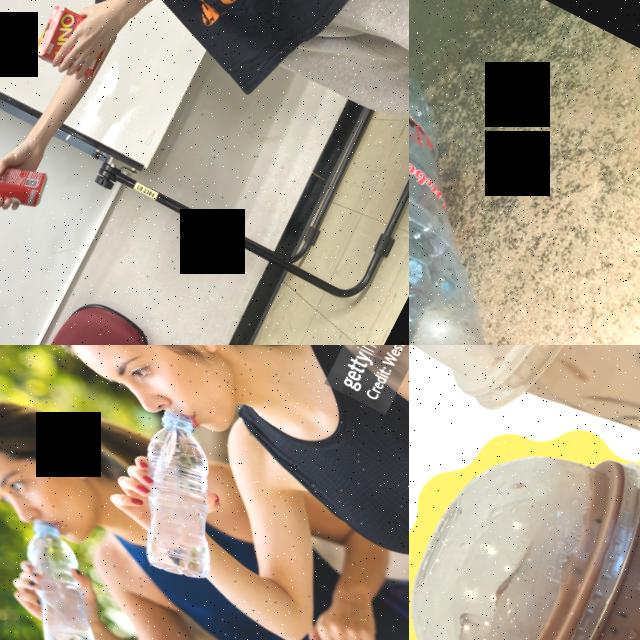bottle: (409, 18, 595, 345), (91, 395, 272, 589), (0, 491, 158, 640)
can: (0, 141, 55, 225)
cup: (409, 345, 640, 544)
